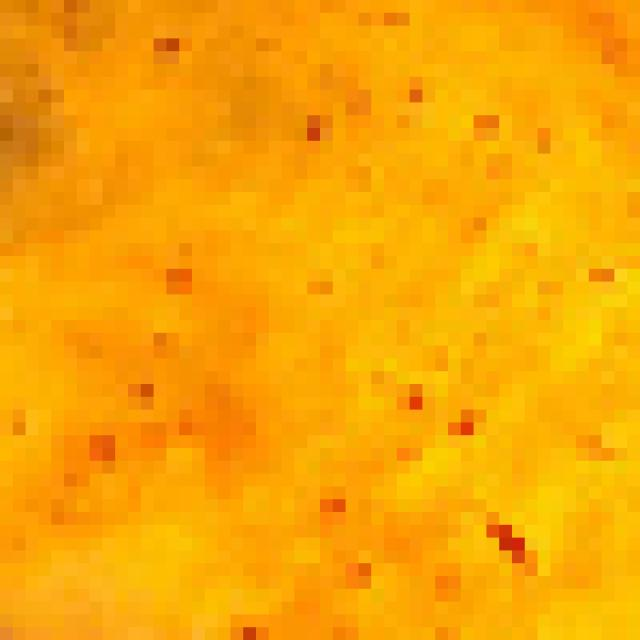fire: (13, 26, 640, 627)
